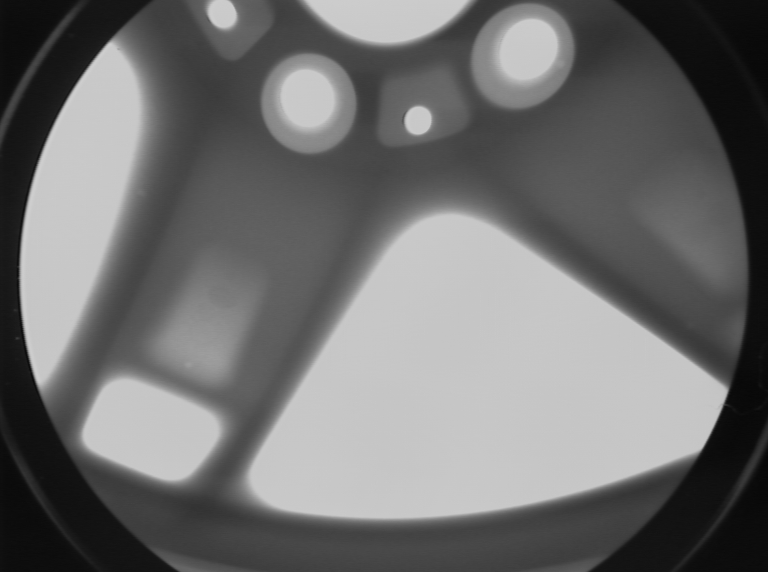defect: (180, 357, 197, 378)
